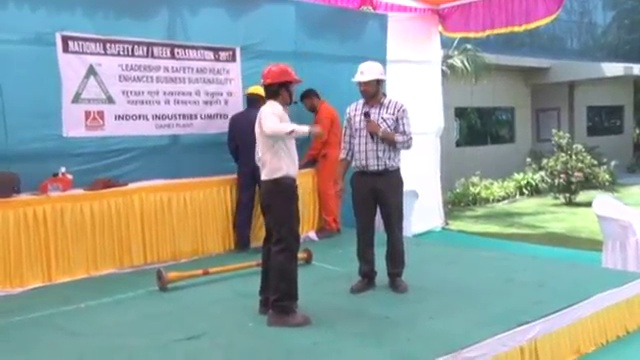helmet: (348, 58, 388, 84), (259, 64, 305, 85), (245, 81, 268, 100)
helmet_off: (300, 86, 325, 115)
helmet_on: (258, 63, 305, 110), (348, 57, 389, 106), (241, 81, 269, 111)
person: (257, 63, 325, 326), (336, 58, 411, 293), (298, 86, 344, 240), (226, 82, 267, 253)
